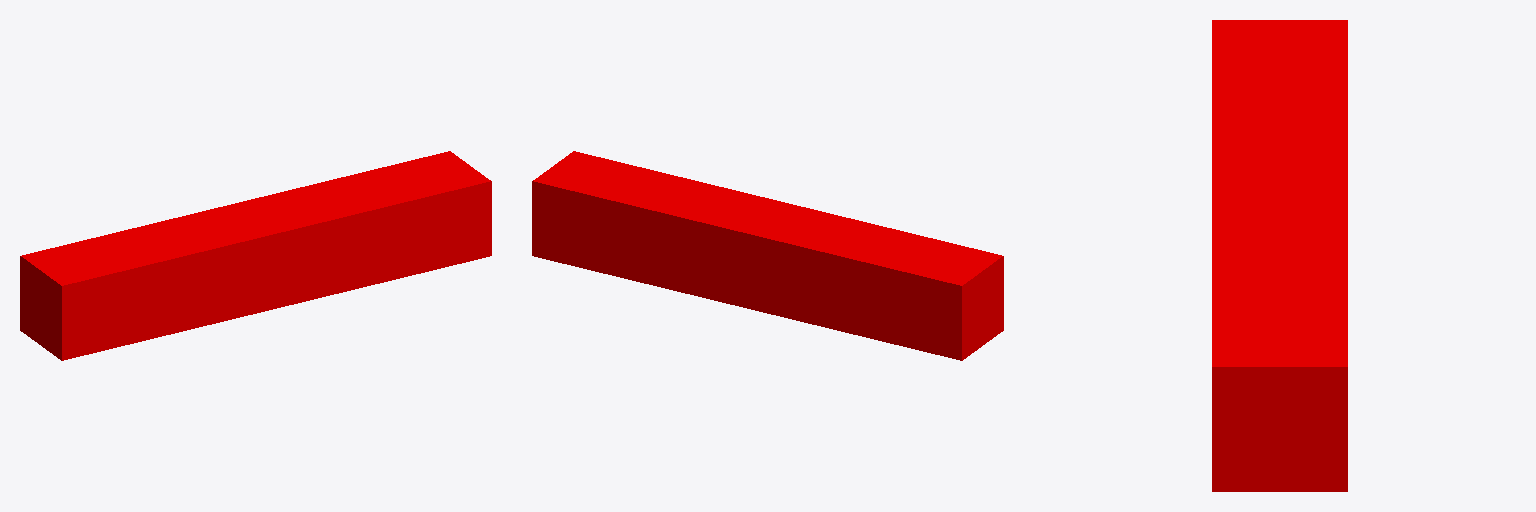
robot.urdf — wall4:
<?xml version="1.0"?>
<robot name="wall4">
	<link name="base">
	<inertial>
        	 <origin xyz="0 0 0" rpy="0 0 0"/>
        	 <mass value="3"/>
        	 <inertia ixx="0.000683333"  ixy="0"  ixz="0" iyy="0.000683333" iyz="0" izz="0.000683333" />
       </inertial>
		<visual>
			<origin xyz="0 0 0" rpy="0 0 0" />
			<geometry>
				<box size="0.12 0.02 0.02" />
			</geometry>
			<material>
				<color rgba="1 0 0 1" />
			</material>
		</visual>
		<collision>
			<origin xyz="0 0 0" rpy="0 0 0" />
			<material>
				<color rgba="1 0 0 1" />
			</material>
			<geometry>
				<box size="0.12 0.02 0.02" />
			</geometry>
			
		</collision>

	</link>
</robot>

--- What the picture shows (computed from the rendered views, not written in the file) ---
The picture shows the robot from 3 angles, left to right: view 1: azimuth 30°, elevation 25°; view 2: azimuth 150°, elevation 25°; view 3: azimuth 270°, elevation 25°; orthographic projection.
Model wall4 with 1 links and 0 joints (none), rooted at base, posed all joints at 0.
Links seen in each view (by area): view 1: base; view 2: base; view 3: base.
Link boxes in pixels (<box>): base: <box>20,151,491,360</box>; base: <box>532,151,1003,360</box>; base: <box>1212,20,1347,491</box>.
Size in the robot's own frame: 0.12 by 0.02 by 0.02 metres.
Geometry: primitives only (box / cylinder / sphere), no mesh files.
